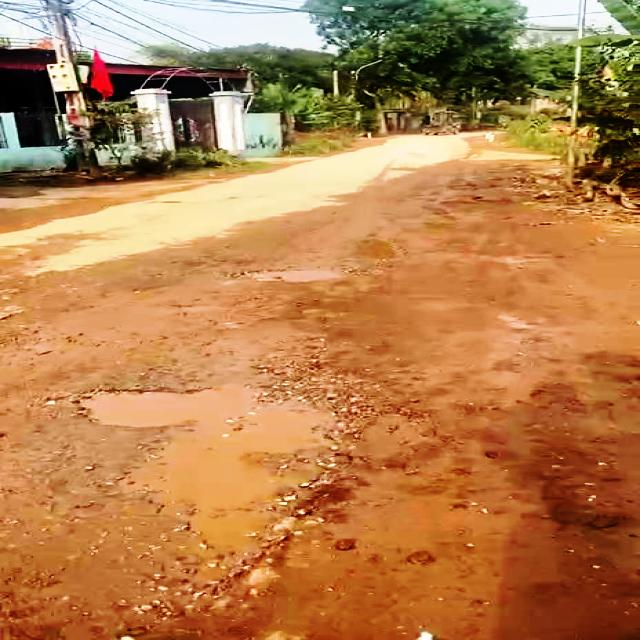pothole: (63, 380, 363, 593), (243, 266, 349, 283), (353, 236, 406, 264)
